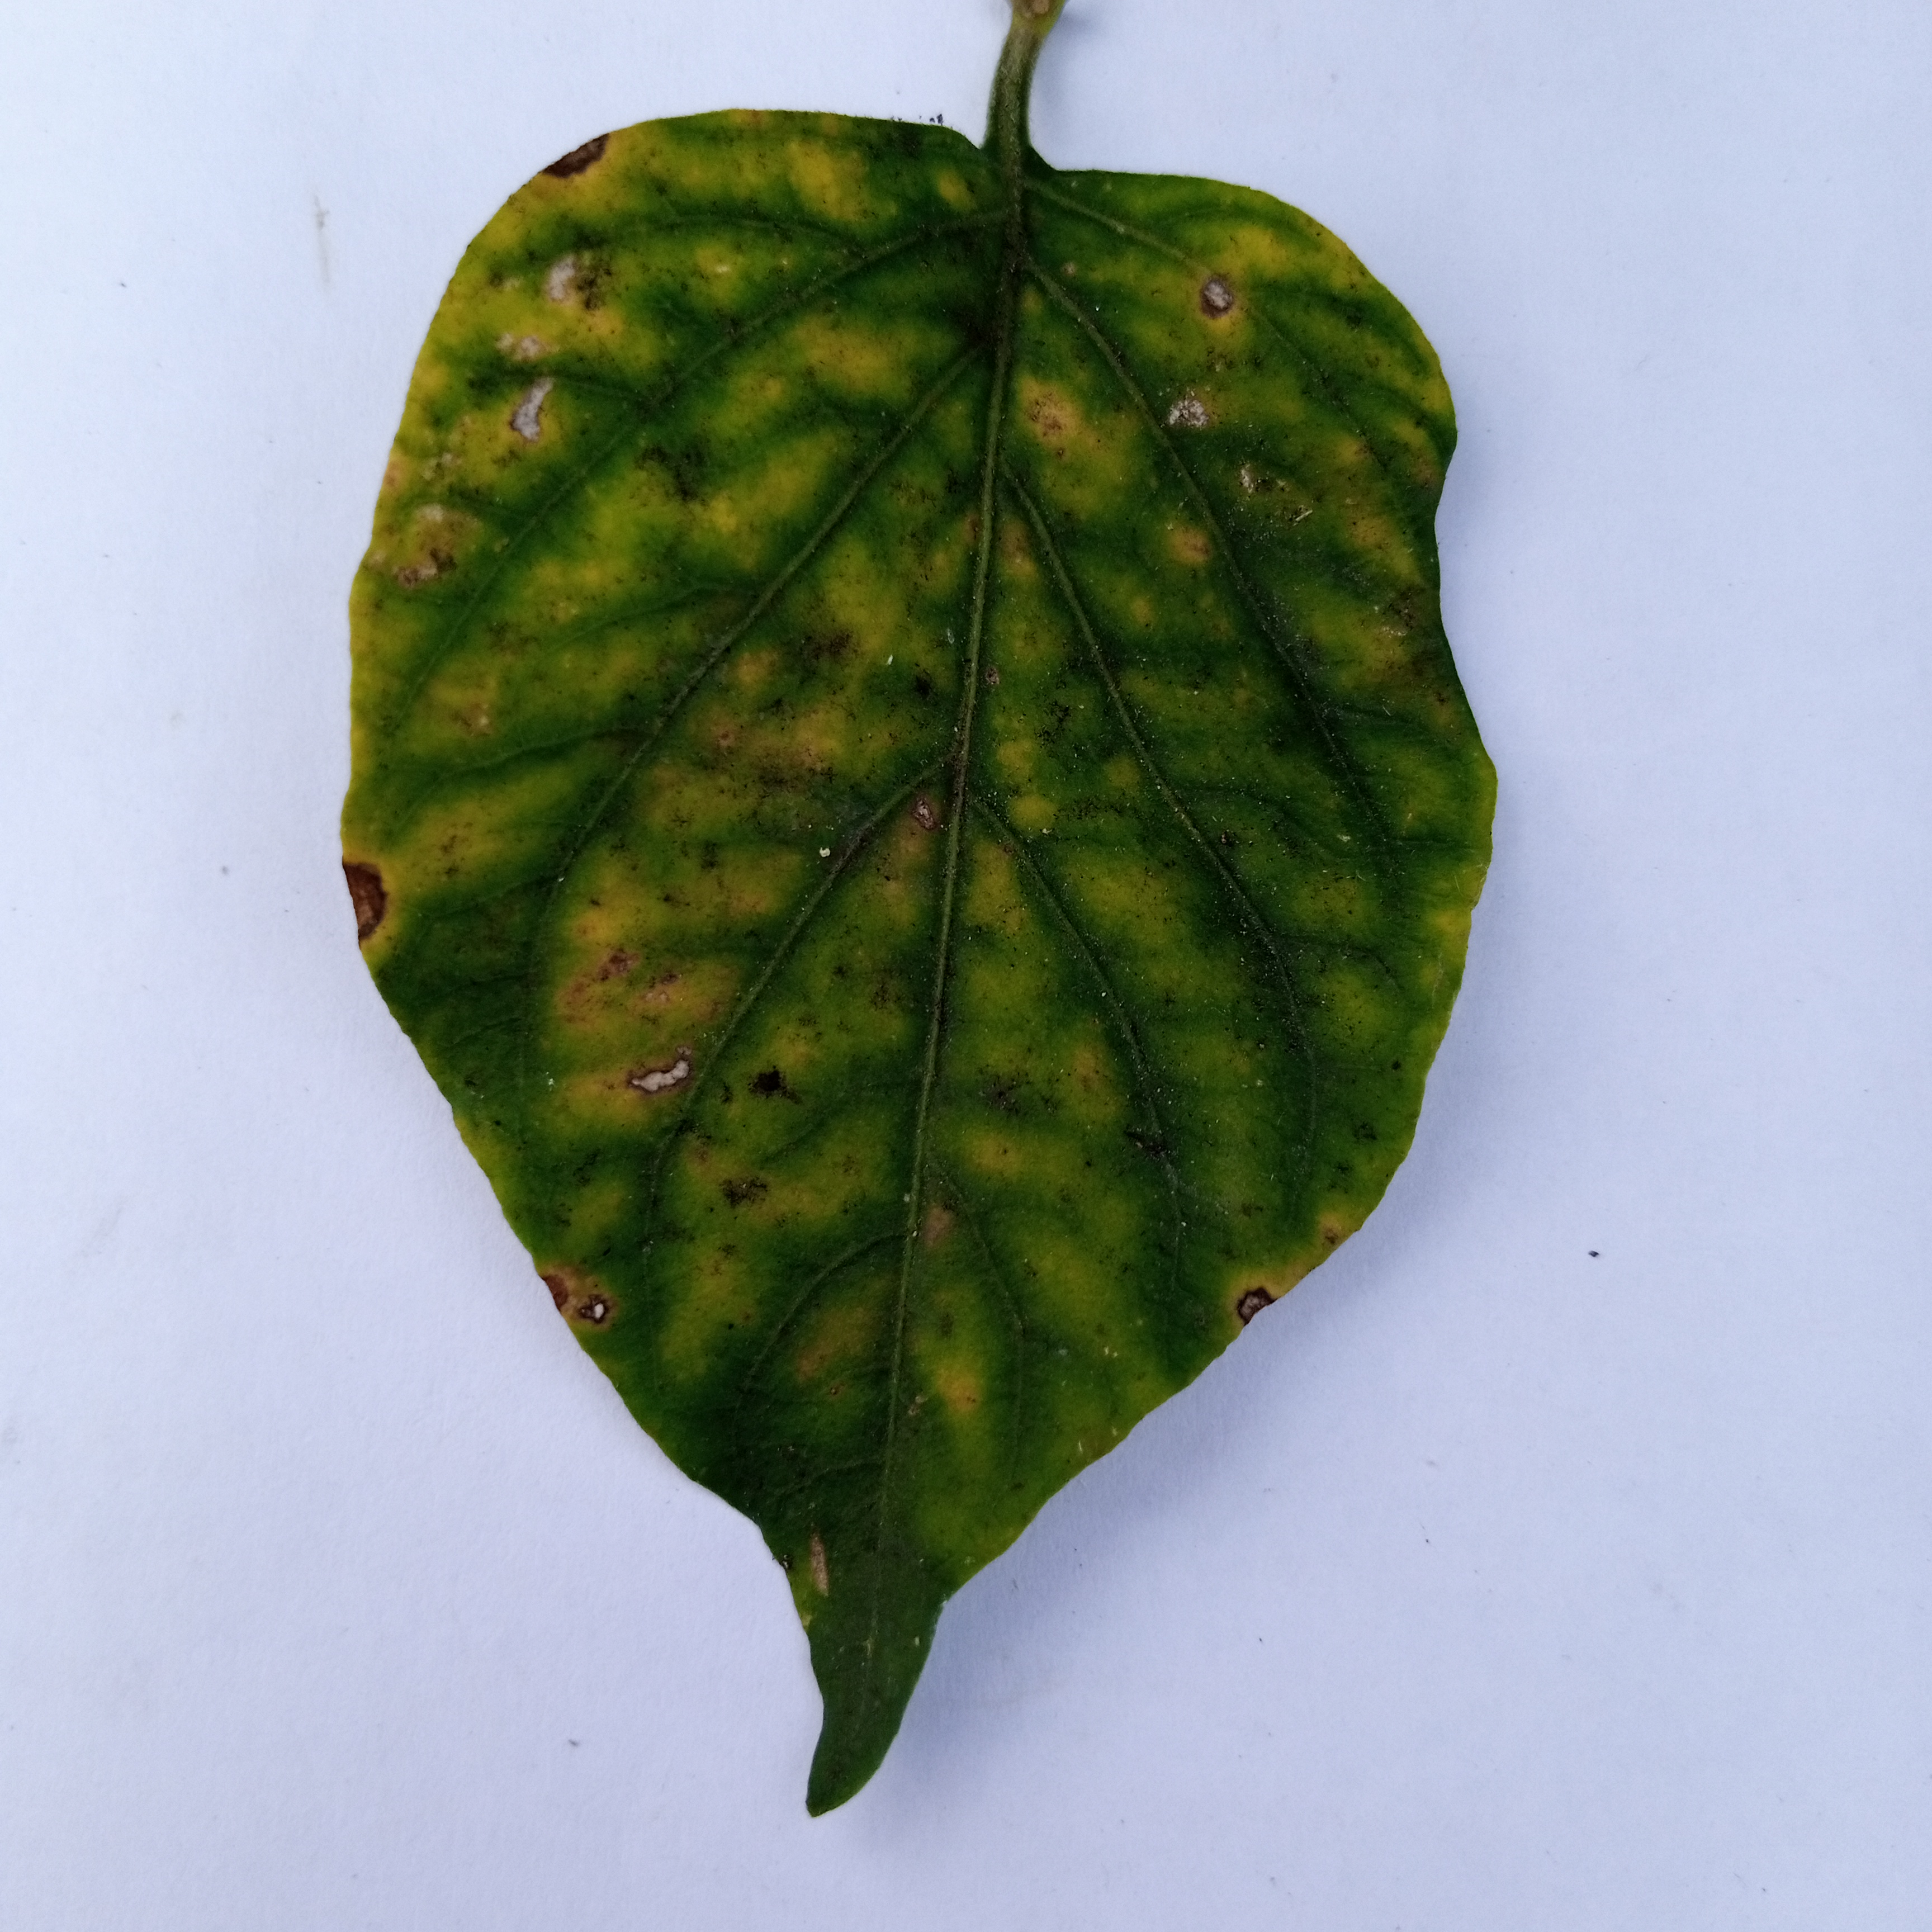Leaf: (235, 44, 1529, 1877)
